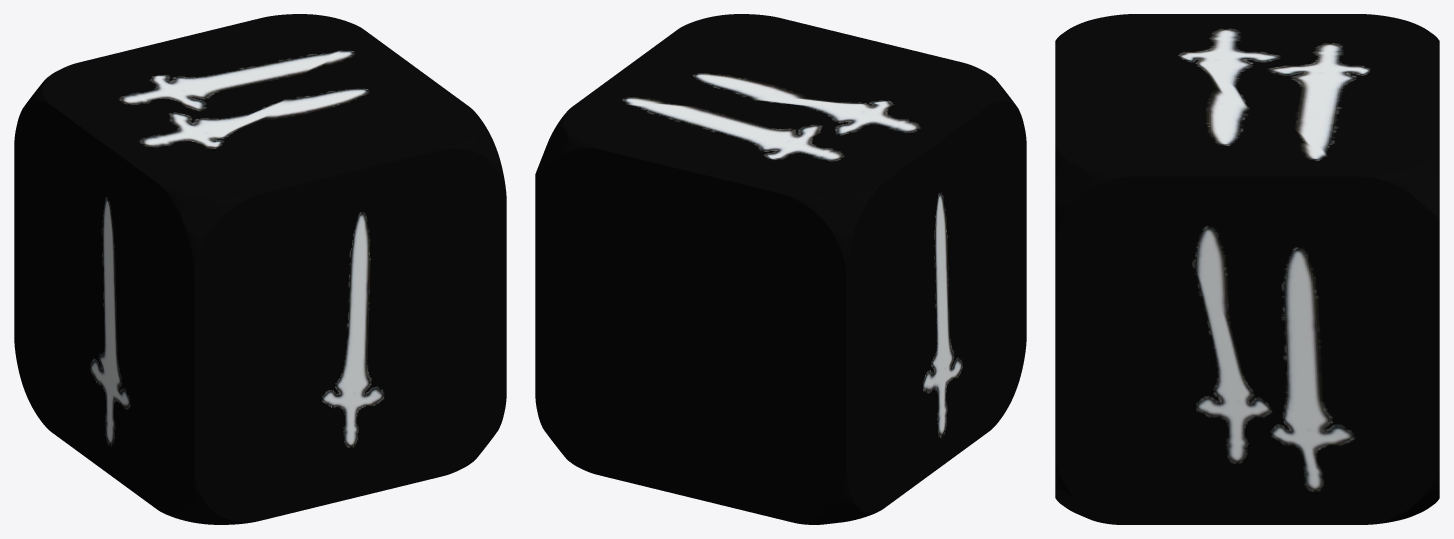
File: black_dice 1.fbx
The picture shows the model from 3 angles, left to right: view 1: azimuth 30°, elevation 25°; view 2: azimuth 150°, elevation 25°; view 3: azimuth 270°, elevation 25°; orthographic projection. The views are drawn at different scales.
Parts seen in each view (by area): view 1: Cube; view 2: Cube; view 3: Cube.
Boxes of the visible parts, x1,y1,x2,y2 form: Cube: (14, 14, 506, 524); Cube: (535, 14, 1026, 524); Cube: (1055, 14, 1439, 524).
Size of the model in its own units: 200 by 200 by 200.
